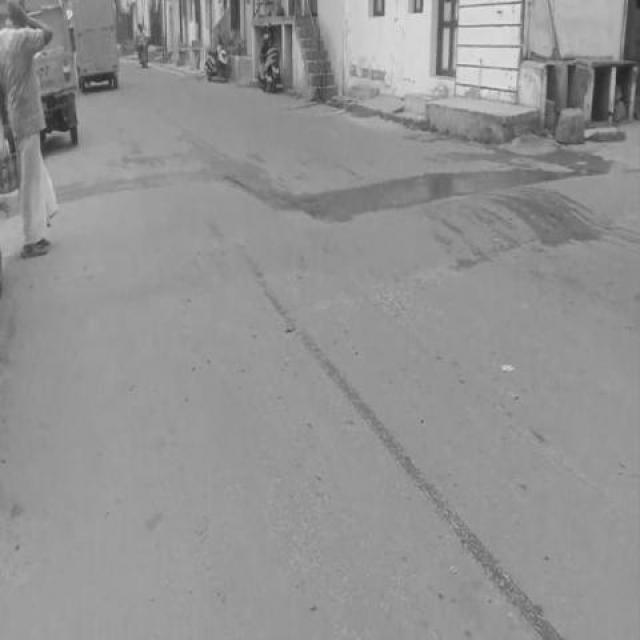Unmarked Bump: (196, 165, 640, 288)
